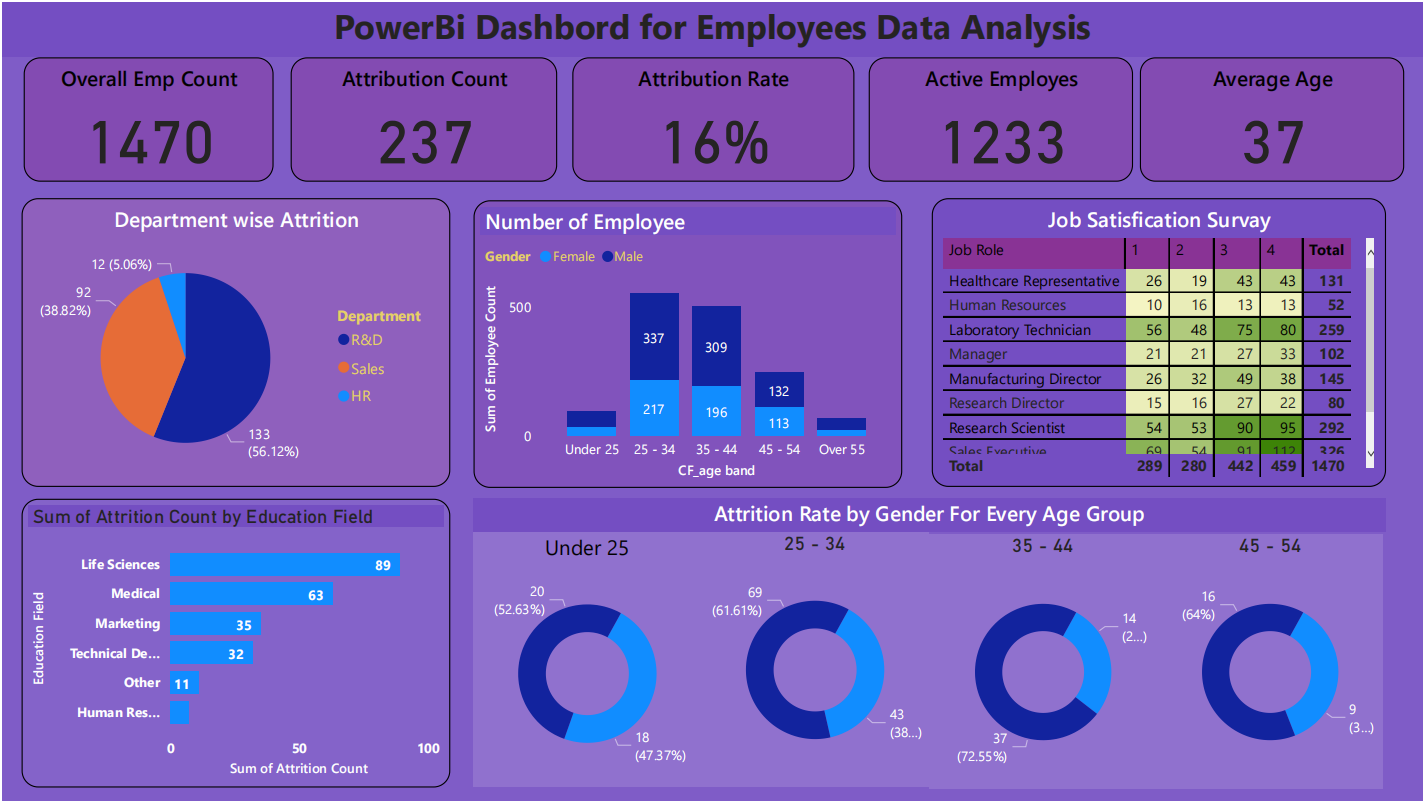

This screenshot's page, from the dashboard's own definition file:
{"tool":"powerbi","page":{"name":"Page 1","canvas":[1280,720],"ordinal":0},"visuals":[{"type":"card","title":"Overall Emp Count","fields":{"Values":["Sum(HR data.Employee Count)"]},"box":[18.9,49.2,225.2,111.7],"z":0},{"type":"card","title":"Attribution Count","fields":{"Values":["Sum(HR data.Attrition Count)"]},"box":[259.3,49.2,240.4,111.7],"z":1},{"type":"card","title":"Attribution Rate","fields":{"Values":["HR data.Attrition Rate"]},"box":[512.9,49.2,253.6,111.7],"z":2},{"type":"card","title":"Active Employes","fields":{"Values":["HR data.Active Employees"]},"box":[779.7,49.2,238.5,111.7],"z":3},{"type":"card","title":"Average Age","fields":{"Values":["Avg(HR data.Age)"]},"box":[1023.9,49.2,238.5,111.7],"z":4},{"type":"pieChart","title":"Department wise Attrition","fields":{"Category":["HR data.Department"],"Y":["Sum(HR data.Attrition Count)"]},"box":[16.7,175.6,386.1,260.4],"z":5},{"type":"columnChart","title":"Number of Employee","fields":{"Category":["HR data.CF_age band"],"Y":["Sum(HR data.Employee Count)"],"Series":["HR data.Gender"]},"box":[424,177.2,386.1,258.9],"z":6},{"type":"pivotTable","title":"Job Satisfication Survay","fields":{"Rows":["HR data.Job Role"],"Columns":["HR data.Job Satisfaction"],"Values":["Sum(HR data.Employee Count)"]},"box":[837.4,175.6,408.8,260.4],"z":7},{"type":"barChart","fields":{"Category":["HR data.Education Field"],"Y":["Sum(HR data.Attrition Count)"]},"box":[17,446,386,260],"z":8},{"type":"donutChart","title":"Under 25","fields":{"Category":["HR data.Gender"],"Y":["Sum(HR data.Attrition Count)"],"Series":["HR data.CF_age band"]},"box":[423.9,476.9,205,229],"z":9},{"type":"textbox","title":"Attrition Rate by Gender For Every Age Group","box":[423.9,446.6,821.4,30.3],"z":10},{"type":"donutChart","title":"25 - 34","fields":{"Category":["HR data.Gender"],"Y":["Sum(HR data.Attrition Count)"],"Series":["HR data.CF_age band"]},"box":[628.3,476.9,206.3,229],"z":11},{"type":"donutChart","title":"35 - 44","fields":{"Category":["HR data.Gender"],"Y":["Sum(HR data.Attrition Count)"],"Series":["HR data.CF_age band"]},"box":[834.6,478.8,204.4,229],"z":12},{"type":"donutChart","title":"45 - 54","fields":{"Category":["HR data.Gender"],"Y":["Sum(HR data.Attrition Count)"],"Series":["HR data.CF_age band"]},"box":[1039,478.8,204.4,229],"z":13},{"type":"textbox","title":"PowerBi Dashbord  for Employees Data Analysis","box":[0,0,1279.4,49.2],"z":14}]}

Visuals, with their boxes in screenshot pixels (x1, y1, x2, y2), scaled from the page's 1280x720 canvas onto the 1423x802 screenshot:
"Overall Emp Count" card: {"x1": 21, "y1": 55, "x2": 271, "y2": 179}
"Attribution Count" card: {"x1": 288, "y1": 55, "x2": 556, "y2": 179}
"Attribution Rate" card: {"x1": 570, "y1": 55, "x2": 852, "y2": 179}
"Active Employes" card: {"x1": 867, "y1": 55, "x2": 1132, "y2": 179}
"Average Age" card: {"x1": 1138, "y1": 55, "x2": 1403, "y2": 179}
"Department wise Attrition" pieChart: {"x1": 19, "y1": 196, "x2": 448, "y2": 486}
"Number of Employee" columnChart: {"x1": 471, "y1": 197, "x2": 901, "y2": 486}
"Job Satisfication Survay" pivotTable: {"x1": 931, "y1": 196, "x2": 1385, "y2": 486}
barChart - HR data.Education Field x Sum(HR data.Attrition Count): {"x1": 19, "y1": 497, "x2": 448, "y2": 786}
"Under 25" donutChart: {"x1": 471, "y1": 531, "x2": 699, "y2": 786}
"Attrition Rate by Gender For Every Age Group" textbox: {"x1": 471, "y1": 497, "x2": 1384, "y2": 531}
"25 - 34" donutChart: {"x1": 698, "y1": 531, "x2": 928, "y2": 786}
"35 - 44" donutChart: {"x1": 928, "y1": 533, "x2": 1155, "y2": 788}
"45 - 54" donutChart: {"x1": 1155, "y1": 533, "x2": 1382, "y2": 788}
"PowerBi Dashbord  for Employees Data Analysis" textbox: {"x1": 0, "y1": 0, "x2": 1422, "y2": 55}
